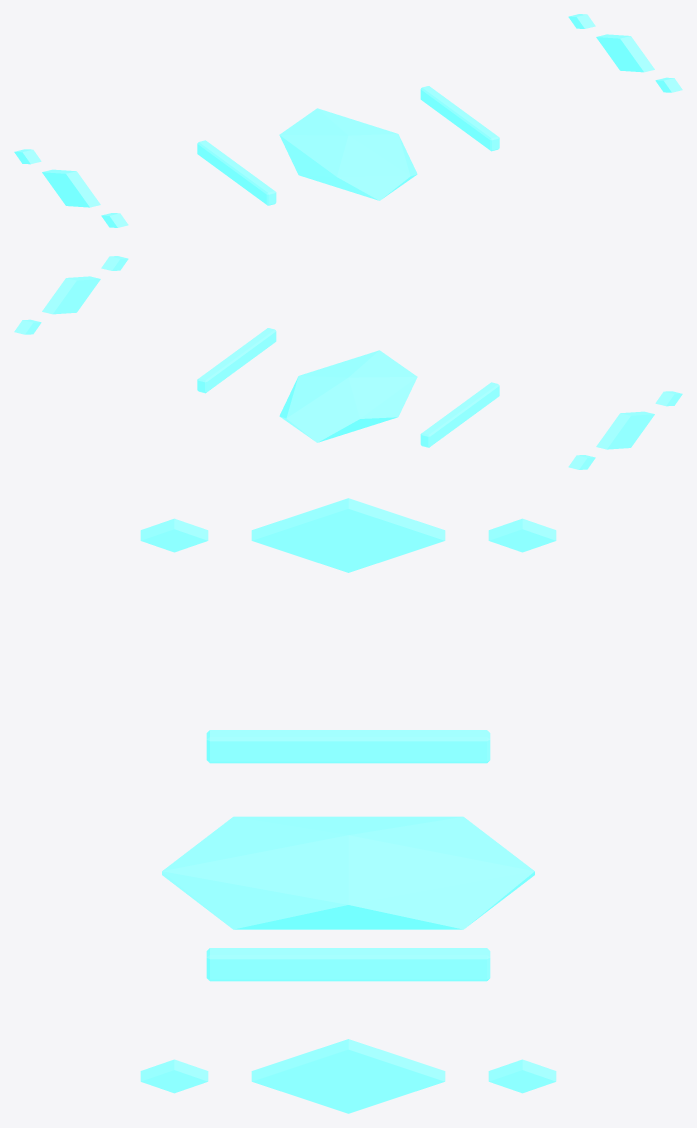
File: bridge-lift-rune.glb
The picture shows the model from 3 angles, top to bottom: view 1: azimuth 30°, elevation 25°; view 2: azimuth 150°, elevation 25°; view 3: azimuth 270°, elevation 25°; orthographic projection. The views are drawn at different scales.
Parts seen in each view (by area): view 1: Bridge lift rune; view 2: Bridge lift rune; view 3: Bridge lift rune.
Boxes of the visible parts, x1,y1,x2,y2 form: Bridge lift rune: (14,14,682,227); Bridge lift rune: (14,256,682,469); Bridge lift rune: (140,498,556,1113).
Bounding box in the file's own units: 2.02 × 0.235 × 0.645.
